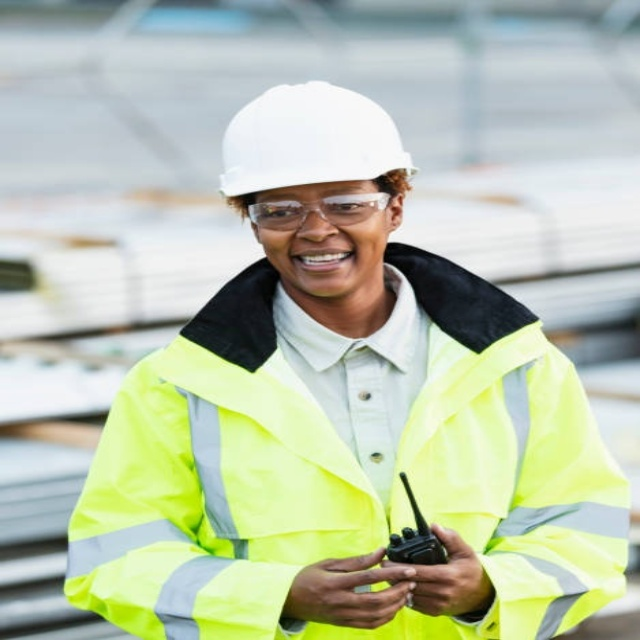Gafas: (246, 193, 392, 230)
Sin_guantes: (381, 512, 490, 626), (285, 546, 422, 630)
Sin_mascara: (287, 245, 362, 290)
